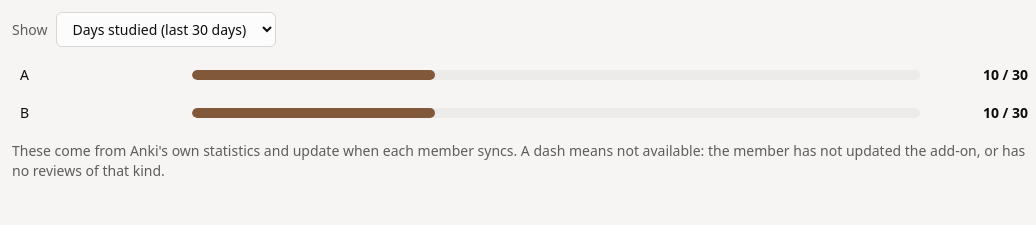
StatsChart › switches the statistic from the dropdown and re-sorts
This screenshot has width=1036, height=225.
Select "Retention, last 7 days" in the dropdown named "Statistic" at (166, 30), box [56,12,276,47]
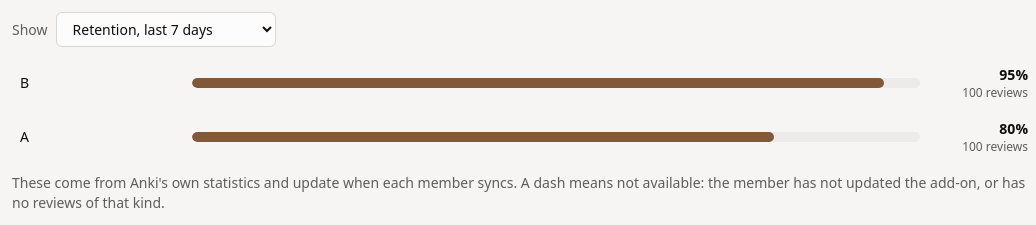
Check: the list item with test id "stat-row" shows "B", box [20,73,29,92]
Check: the list item with test id "stat-row" shows "95%", box [999,65,1028,84]
